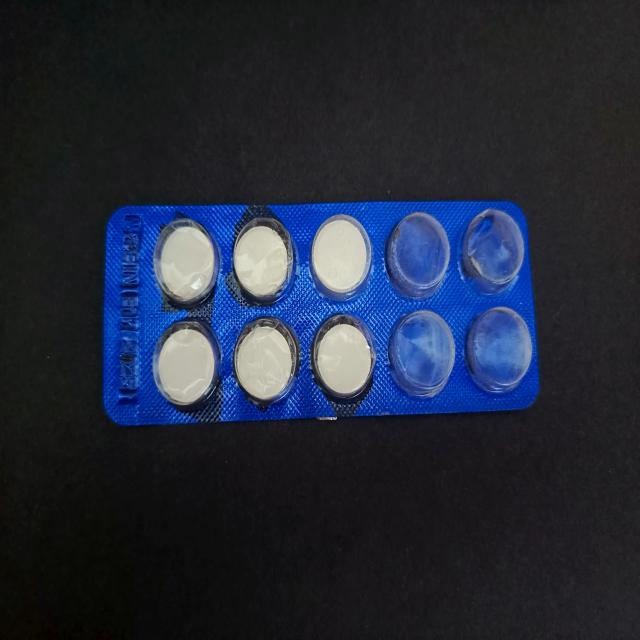defect: (385, 306, 458, 401), (462, 302, 534, 397), (382, 207, 453, 302), (459, 206, 526, 298)
